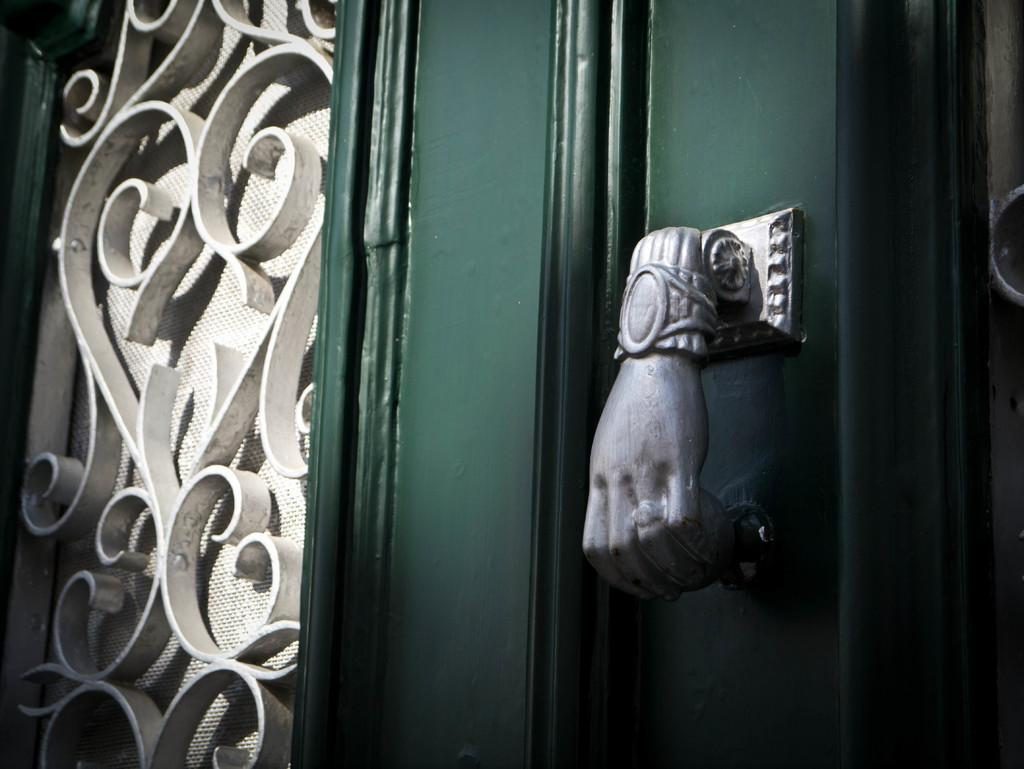door: (0, 0, 570, 755), (626, 29, 1011, 745)
handle: (578, 209, 814, 600)
